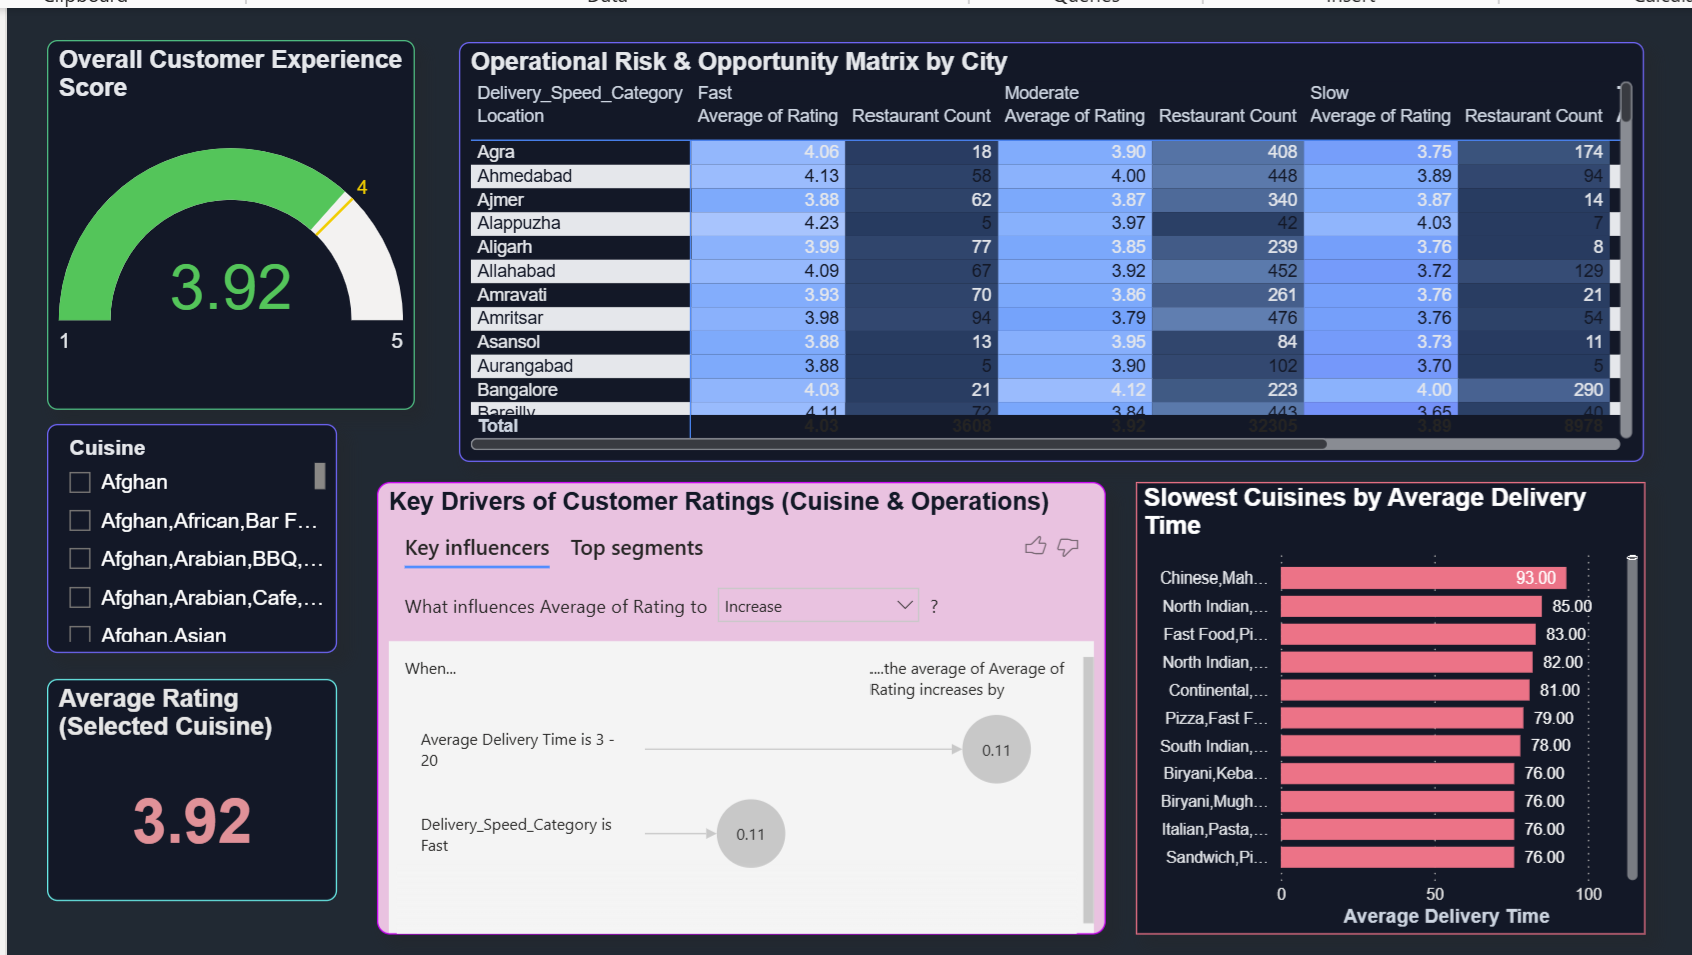

This screenshot's page, from the dashboard's own definition file:
{"tool":"powerbi","page":{"name":"Strategic & Operational Insights","canvas":[1280,720],"ordinal":3},"visuals":[{"type":"gauge","title":"Overall Customer Experience Score","fields":{"Y":["Avg(zomato_dataset_feature_engineered.Rating)"],"MinValue":["zomato_dataset_feature_engineered.minimum rating"],"MaxValue":["zomato_dataset_feature_engineered.maximum rating"],"TargetValue":["zomato_dataset_feature_engineered.target rating"]},"box":[30.3,24.3,279.1,280.6],"z":0},{"type":"pivotTable","title":"Operational Risk & Opportunity Matrix by City","fields":{"Rows":["zomato_dataset_feature_engineered.Location"],"Columns":["zomato_dataset_feature_engineered.Delivery_Speed_Category"],"Values":["Avg(zomato_dataset_feature_engineered.Rating)","zomato_dataset_feature_engineered.Restaurant Count"]},"box":[342.7,25.8,897.8,318.5],"z":1000},{"type":"slicer","title":"Cuisine","fields":{"Values":["zomato_dataset_feature_engineered.Cuisine"]},"box":[30.3,315.5,219.9,172.9],"z":2000},{"type":"keyDriversVisual","title":"Key Drivers of Customer Ratings (Cuisine & Operations)","fields":{"Target":["zomato_dataset_feature_engineered.Rating"],"ExplainBy":["zomato_dataset_feature_engineered.Cuisine","zomato_dataset_feature_engineered.Price_Category","zomato_dataset_feature_engineered.Delivery_Speed_Category","zomato_dataset_feature_engineered.Average Delivery Time","zomato_dataset_feature_engineered.Average Price","zomato_dataset_feature_engineered.Safety_Flag","zomato_dataset_feature_engineered.Is_Multi_Cuisine"]},"box":[280.6,359.4,552,342.7],"z":3000},{"type":"card","title":"Average Rating (Selected Cuisine)","fields":{"Values":["Avg(zomato_dataset_feature_engineered.Rating)"]},"box":[30.3,508.1,219.9,168.3],"z":4000},{"type":"clusteredBarChart","title":"Slowest Cuisines by Average Delivery Time","fields":{"Category":["zomato_dataset_feature_engineered.Cuisine"],"Y":["Avg(zomato_dataset_feature_engineered.Average Delivery Time)"]},"box":[855.4,359.4,386.7,342.7],"z":5000}]}

Visuals, with their boxes on the page's 1280x720 design canvas (x1, y1, x2, y2). These are canvas units, not pixel positions in the 1692x955 screenshot, which may show the page scaled, cropped or inside an application window:
"Overall Customer Experience Score" gauge: 30/24/309/305
"Operational Risk & Opportunity Matrix by City" pivotTable: 343/26/1240/344
"Cuisine" slicer: 30/316/250/488
"Key Drivers of Customer Ratings (Cuisine & Operations)" keyDriversVisual: 281/359/833/702
"Average Rating (Selected Cuisine)" card: 30/508/250/676
"Slowest Cuisines by Average Delivery Time" clusteredBarChart: 855/359/1242/702
